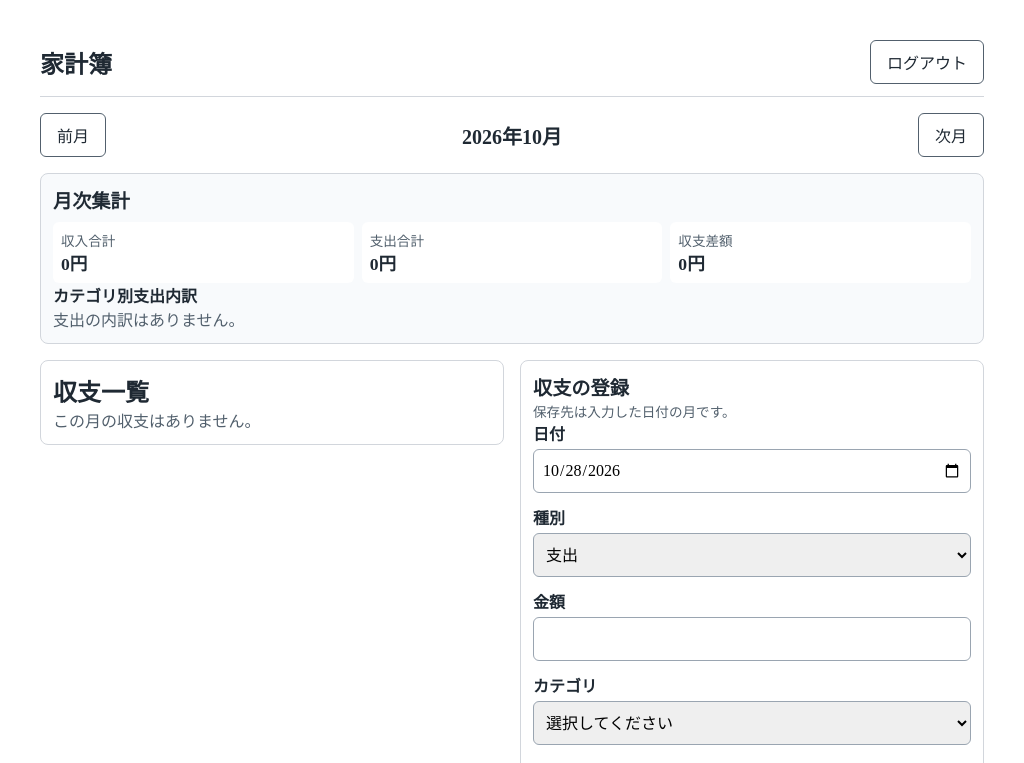
Test case: 登録フォームの検証 › blocks all four empty required fields without POST（T07）
Expected: the heading "月次集計" is shown, [53, 191, 130, 212]
Clear the date field labelled "日付" at (752, 471), box [533, 449, 971, 493]
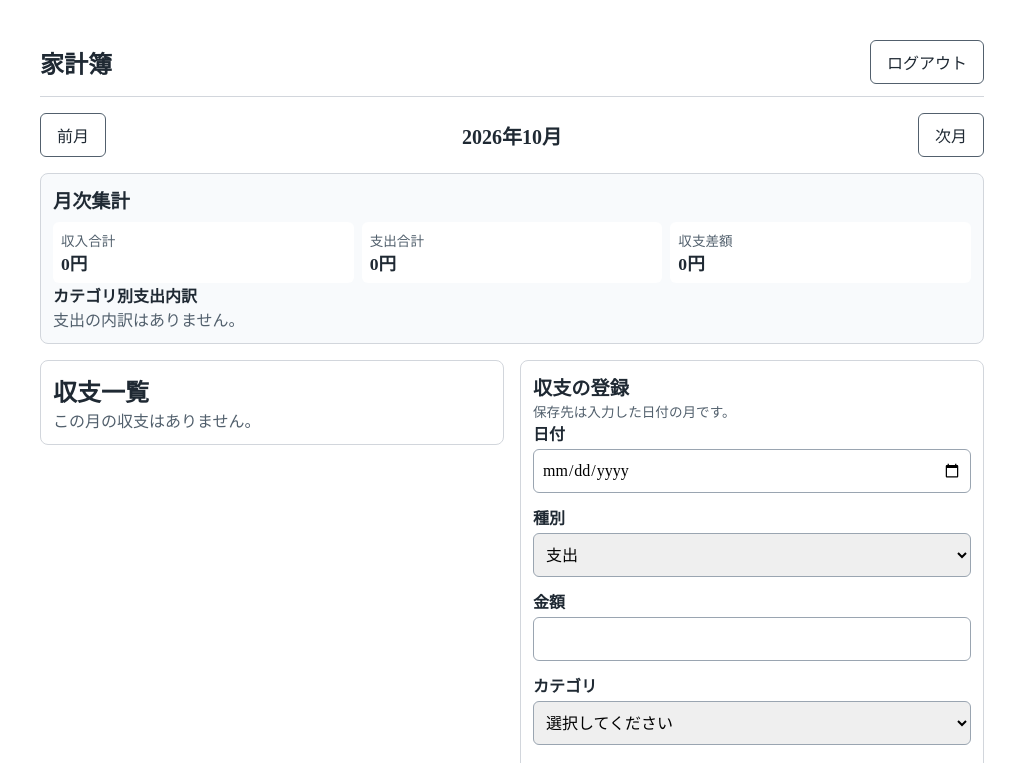
Select "選択してください" in the dropdown labelled "種別" at (752, 555), box [533, 533, 971, 577]
(page scrolled)
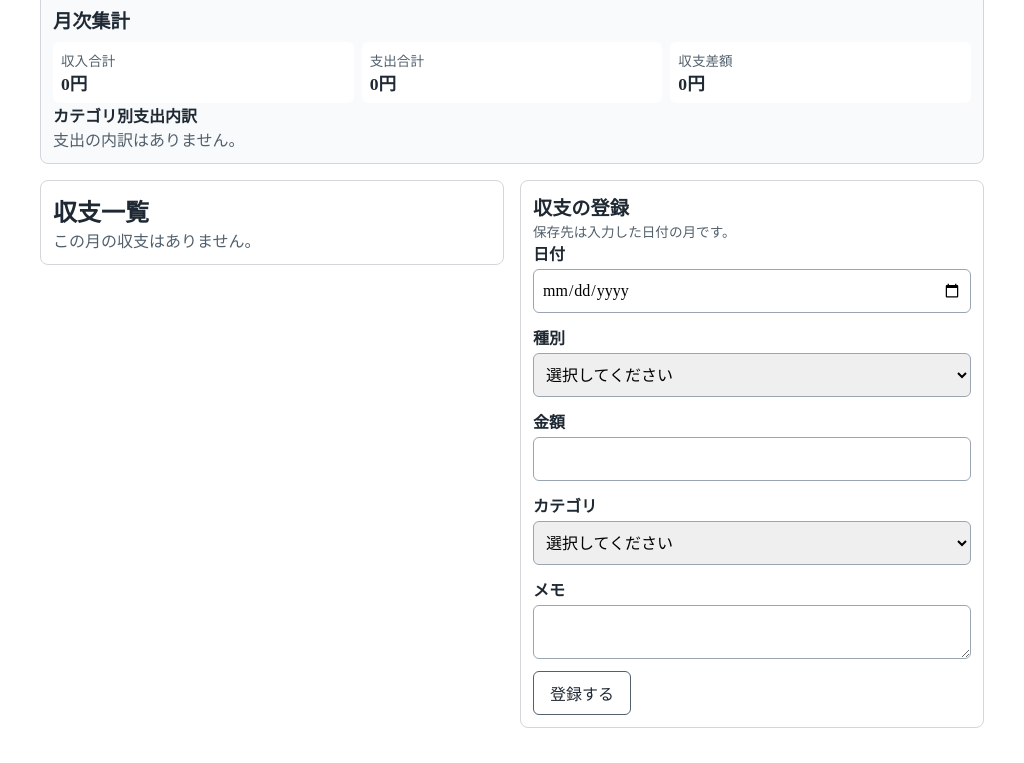
Click the button "登録する" at (582, 693), box [533, 671, 631, 715]
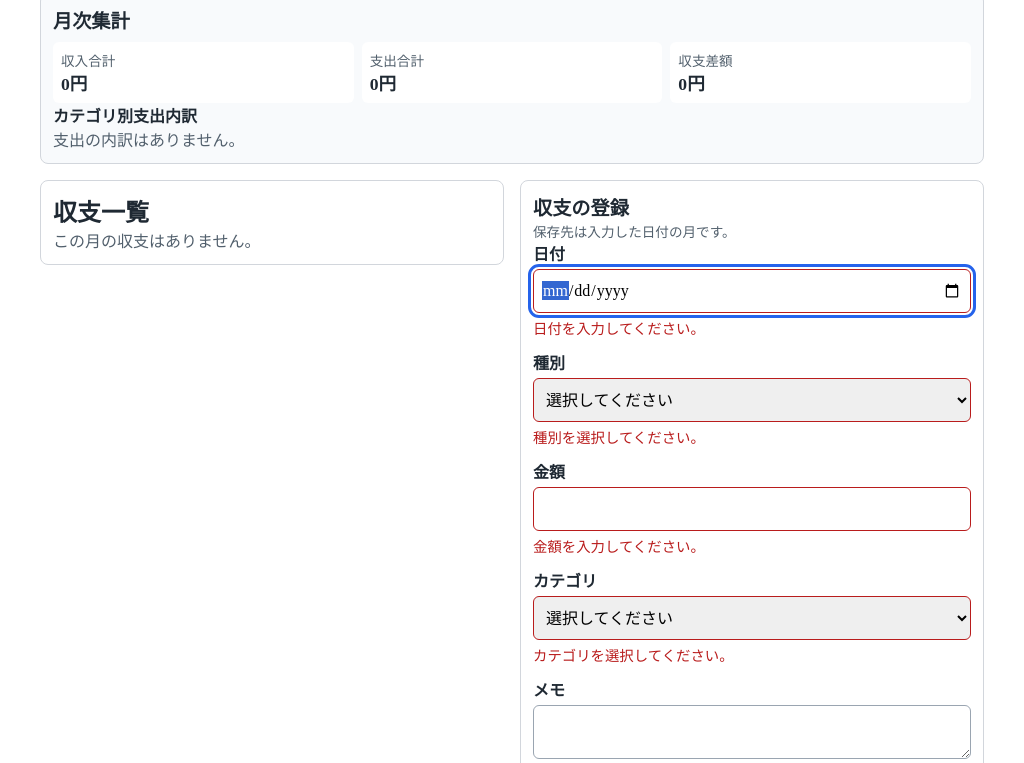
Expected: the text "日付を入力してください。" is shown, [533, 321, 705, 337]
Expected: the text "種別を選択してください。" is shown, [533, 430, 705, 446]
Expected: the text "金額を入力してください。" is shown, [533, 539, 705, 555]
